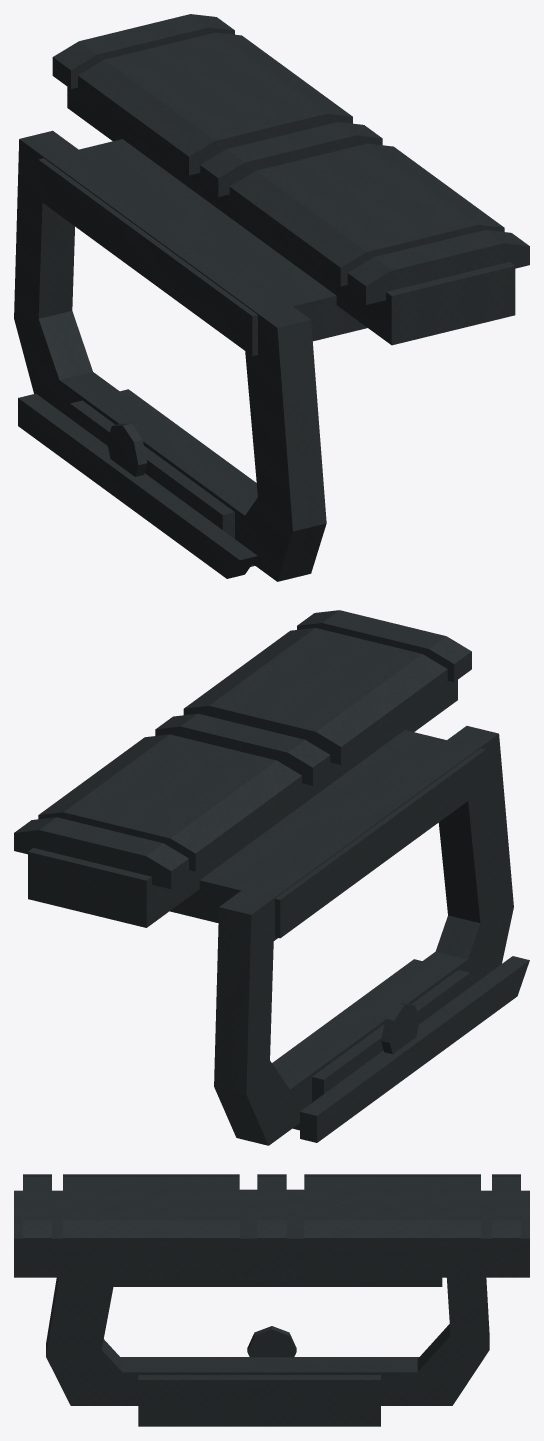
File: saiga_mount.glb
3 renders of one model, top to bottom at view 1: azimuth 30°, elevation 25°; view 2: azimuth 150°, elevation 25°; view 3: azimuth 270°, elevation 25°, orthographic. The views are drawn at different scales.
Visible parts, largest first — view 1: mount__saiga_mount_LOD0_RAID_Secondary_Original_steel, mount__saiga_mount_LOD1_RAID_Secondary_Original_steel; view 2: mount__saiga_mount_LOD0_RAID_Secondary_Original_steel, mount__saiga_mount_LOD1_RAID_Secondary_Original_steel; view 3: mount__saiga_mount_LOD0_RAID_Secondary_Original_steel, mount__saiga_mount_LOD1_RAID_Secondary_Original_steel.
Part boxes in pixels (<box>): mount__saiga_mount_LOD0_RAID_Secondary_Original_steel: <box>14,14,529,581</box>; mount__saiga_mount_LOD1_RAID_Secondary_Original_steel: <box>78,32,504,286</box>; mount__saiga_mount_LOD0_RAID_Secondary_Original_steel: <box>14,610,529,1145</box>; mount__saiga_mount_LOD1_RAID_Secondary_Original_steel: <box>38,628,447,871</box>; mount__saiga_mount_LOD0_RAID_Secondary_Original_steel: <box>14,1174,529,1426</box>; mount__saiga_mount_LOD1_RAID_Secondary_Original_steel: <box>63,1174,480,1252</box>.
Size of the model in its own units: 0.1145 by 0.1415 by 0.25.
1 material, 1 textured.
